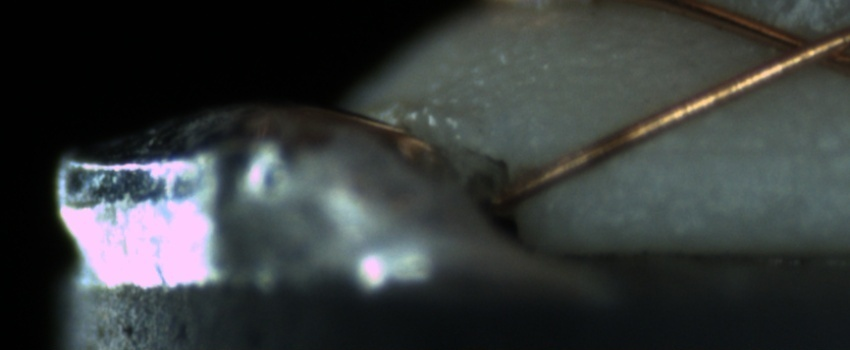CL: (750, 16, 846, 79)
DL: (627, 121, 848, 180)
